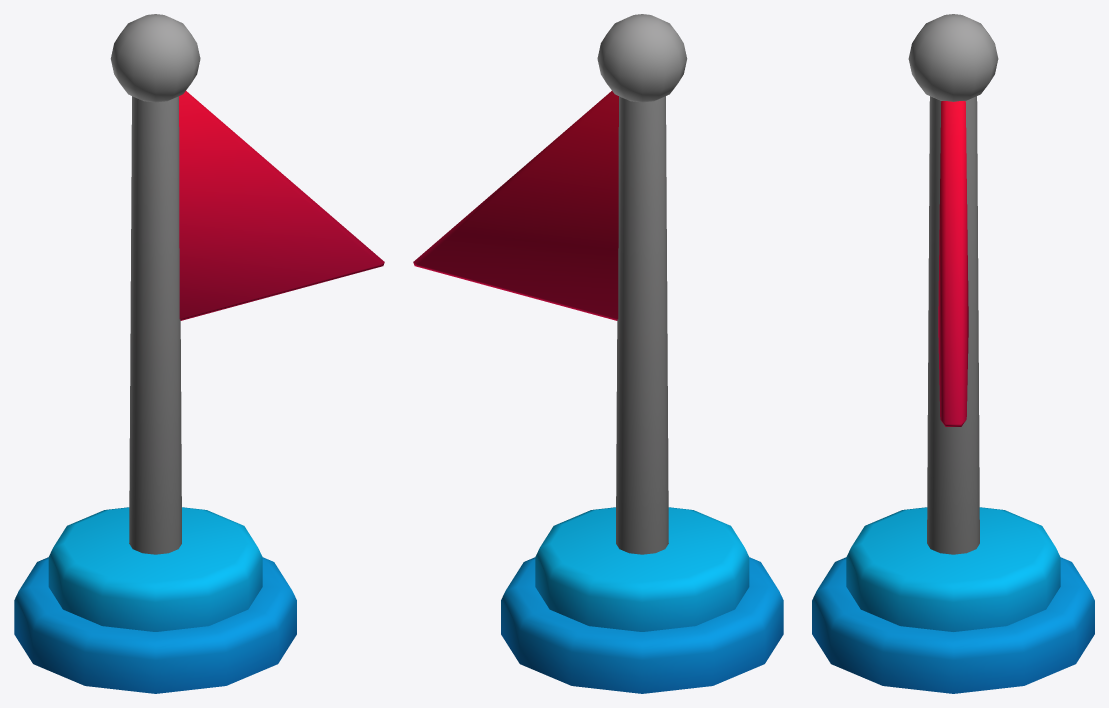
Rendered from Prop_Flag_01.fbx.
The picture shows the model from 3 angles, left to right: view 1: azimuth 30°, elevation 25°; view 2: azimuth 150°, elevation 25°; view 3: azimuth 270°, elevation 25°; orthographic projection.
Visible parts, largest first — view 1: Prop_Flag_01; view 2: Prop_Flag_01; view 3: Prop_Flag_01.
Part boxes in pixels (left/top/right/bottom): Prop_Flag_01: left=14, top=14, right=384, bottom=693; Prop_Flag_01: left=413, top=14, right=783, bottom=693; Prop_Flag_01: left=812, top=14, right=1094, bottom=693.
Size of the model in its own units: 67.1 by 114 by 47.27.
